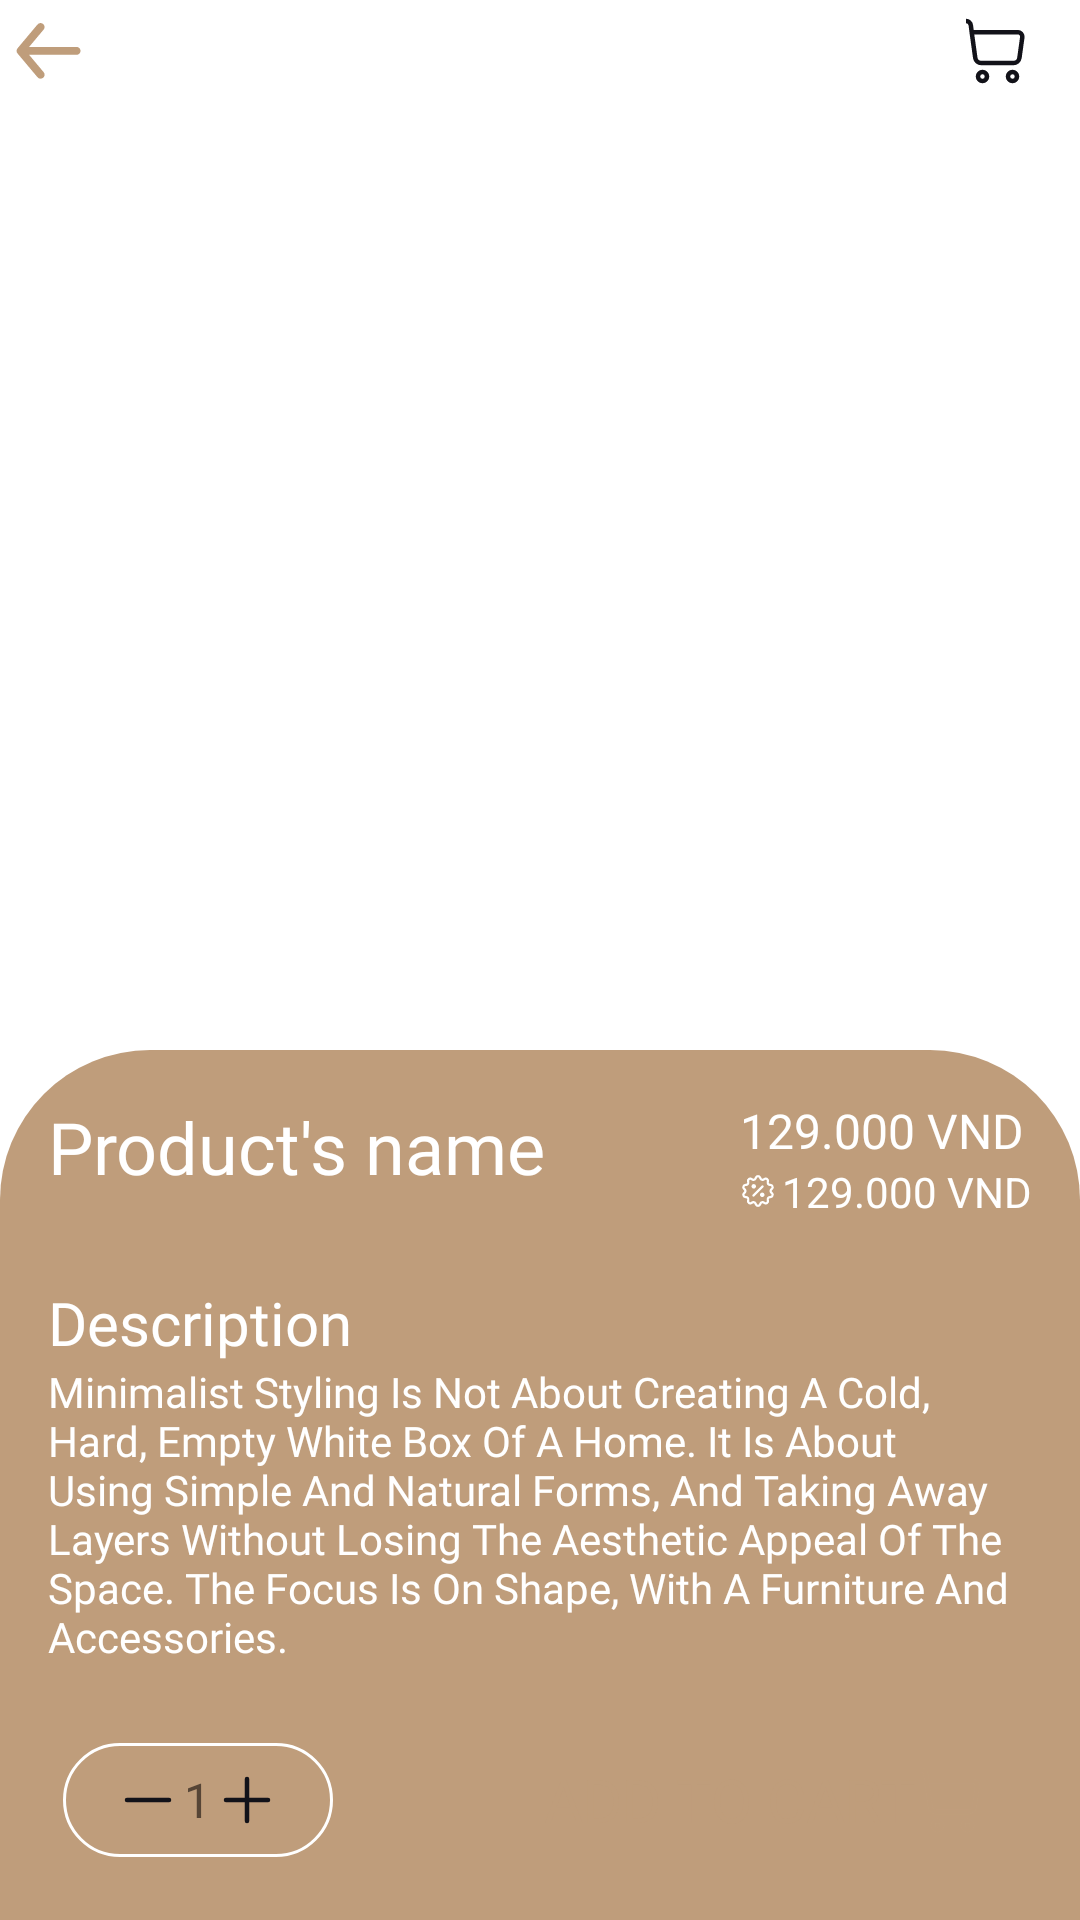

Where icons sit on this 1080 x 1920 app screen, as (x1, y1, x2, y2):
back: (16, 23, 81, 79)
cart: (966, 18, 1025, 84)
plus: (224, 1777, 270, 1823)
